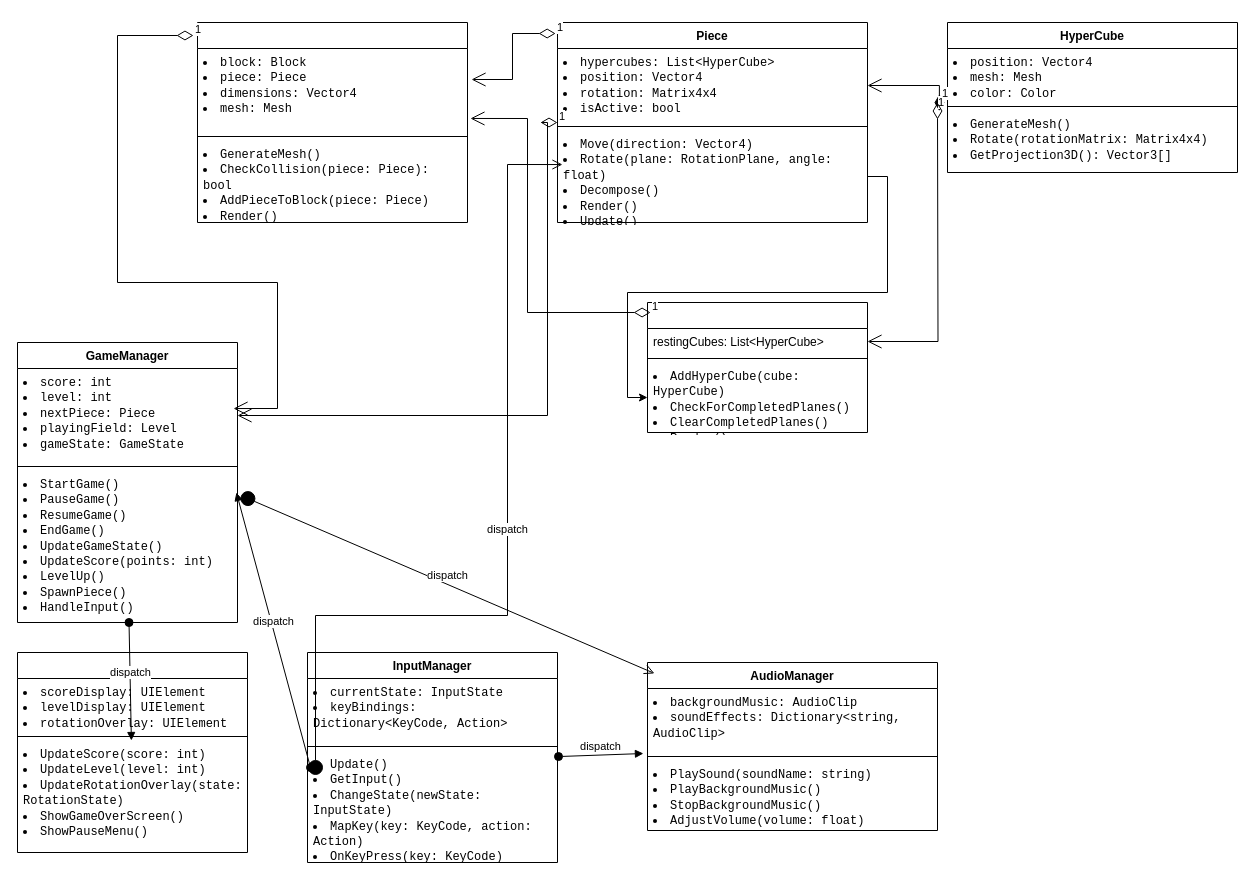
Some shapes in this 1255 by 883 pixel diagram are drawn without their labels. The box of each missing label's shape, as (x1, y1, x2, y2) in pixels:
Block: (646, 302, 868, 432)
Level: (196, 22, 468, 222)
UserInterface: (16, 652, 248, 852)
